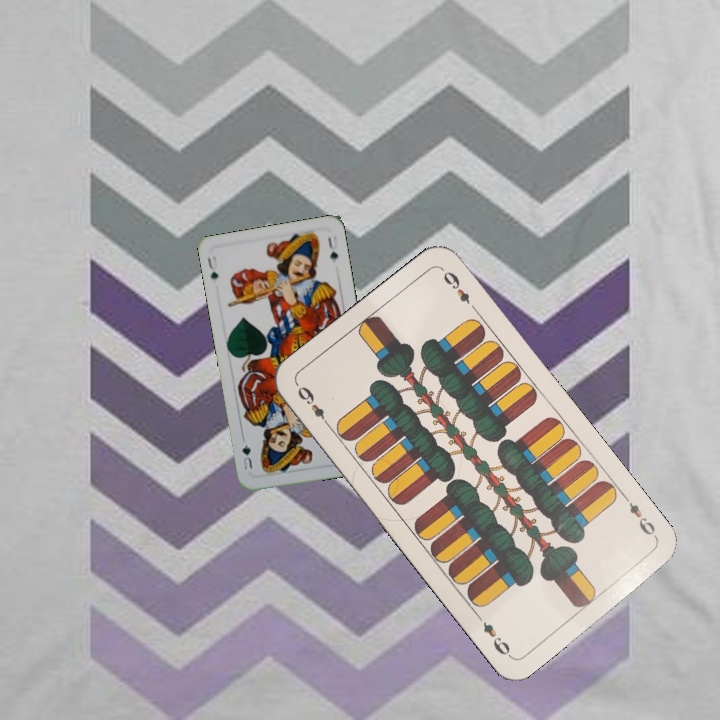E9: (620, 492, 661, 543), (293, 382, 334, 431)
GU: (203, 252, 221, 283)
